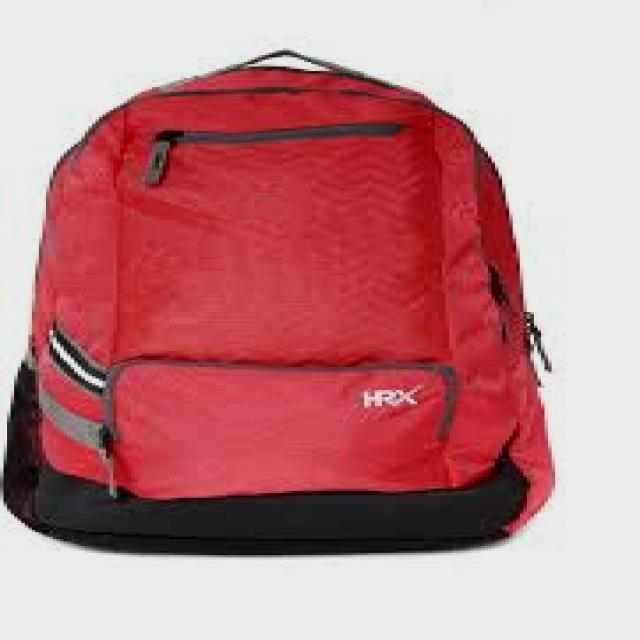backpack: (1, 49, 556, 556)
